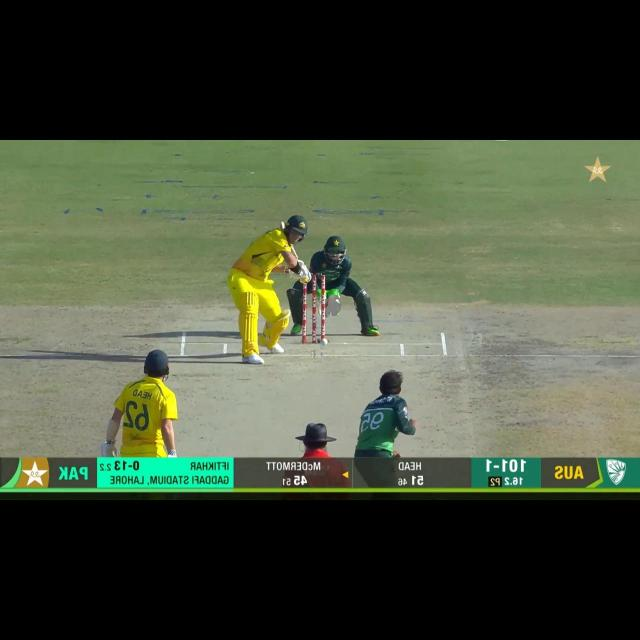bat: (289, 246, 299, 258)
toe: (277, 219, 287, 230)
